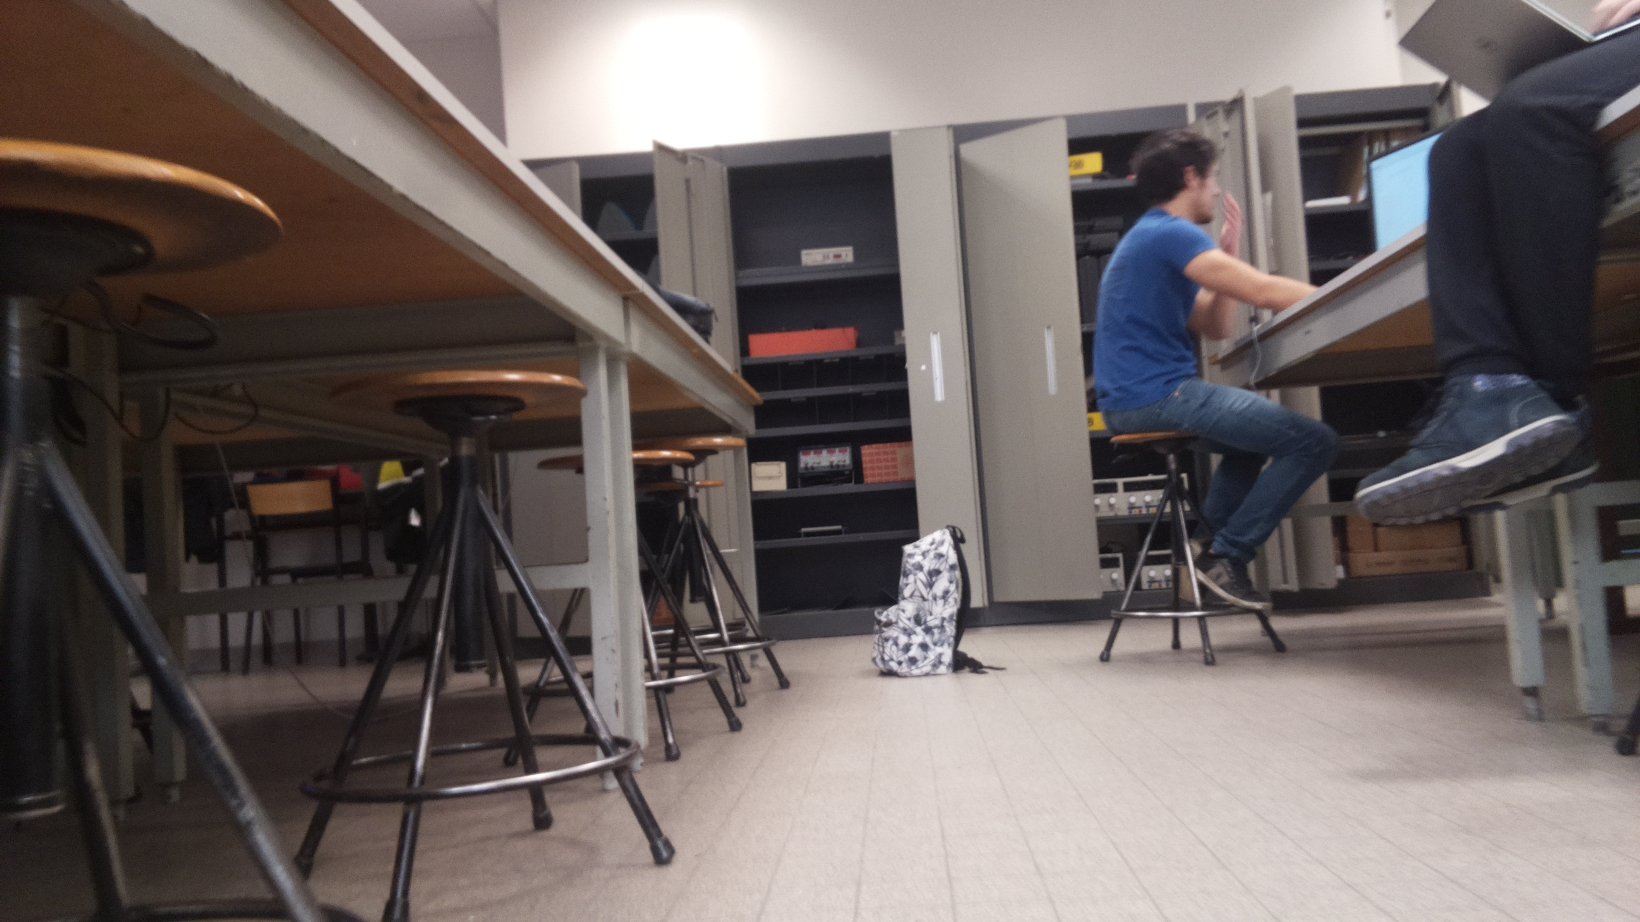big: (873, 525, 968, 678)
